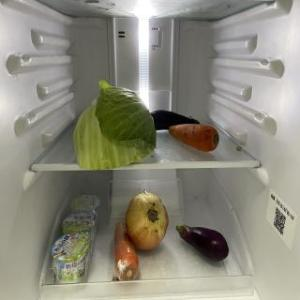cabbage: (73, 80, 161, 172)
carrot: (169, 122, 219, 154), (113, 221, 138, 280)
eggplant: (177, 222, 231, 264), (146, 108, 200, 134)
onion: (128, 190, 170, 252)
